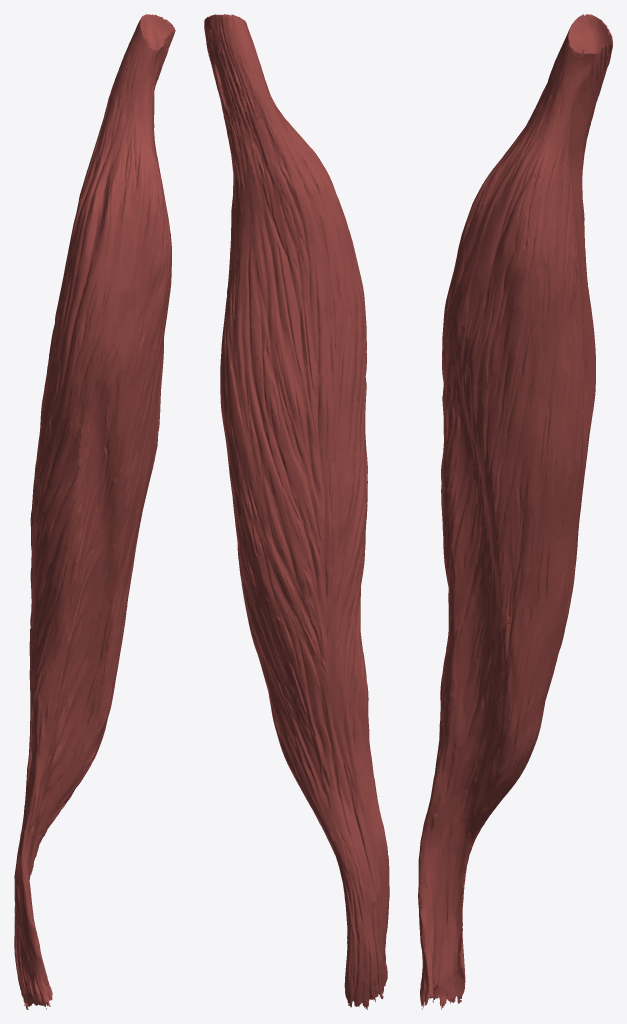
Rendered from FMA45888.glb.
The picture shows the model from 3 angles, left to right: view 1: azimuth 30°, elevation 25°; view 2: azimuth 150°, elevation 25°; view 3: azimuth 330°, elevation 25°; orthographic projection. The views are drawn at different scales.
Parts seen in each view (by area): view 1: FMA45888; view 2: FMA45888; view 3: FMA45888.
Part boxes in pixels (x1=…): FMA45888: x1=14, y1=14, x2=175, y2=1009; FMA45888: x1=204, y1=14, x2=389, y2=1009; FMA45888: x1=418, y1=14, x2=612, y2=1009.
Size of the model in its own units: 0.0759 by 0.413 by 0.054.
